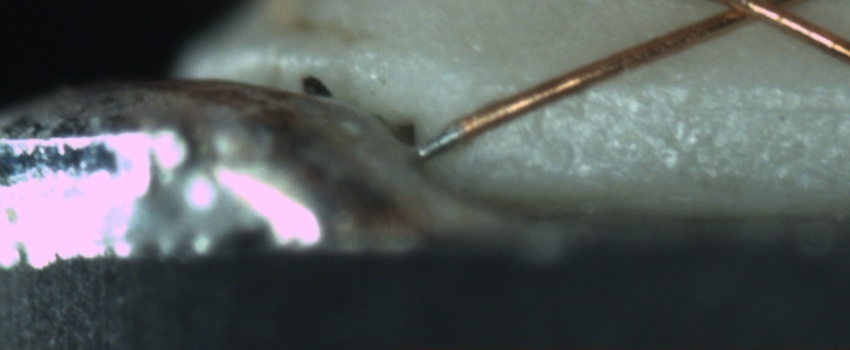CL: (710, 0, 811, 29)
DL: (666, 69, 849, 140)
TS: (416, 122, 463, 162)
TTCW: (419, 99, 511, 158)
